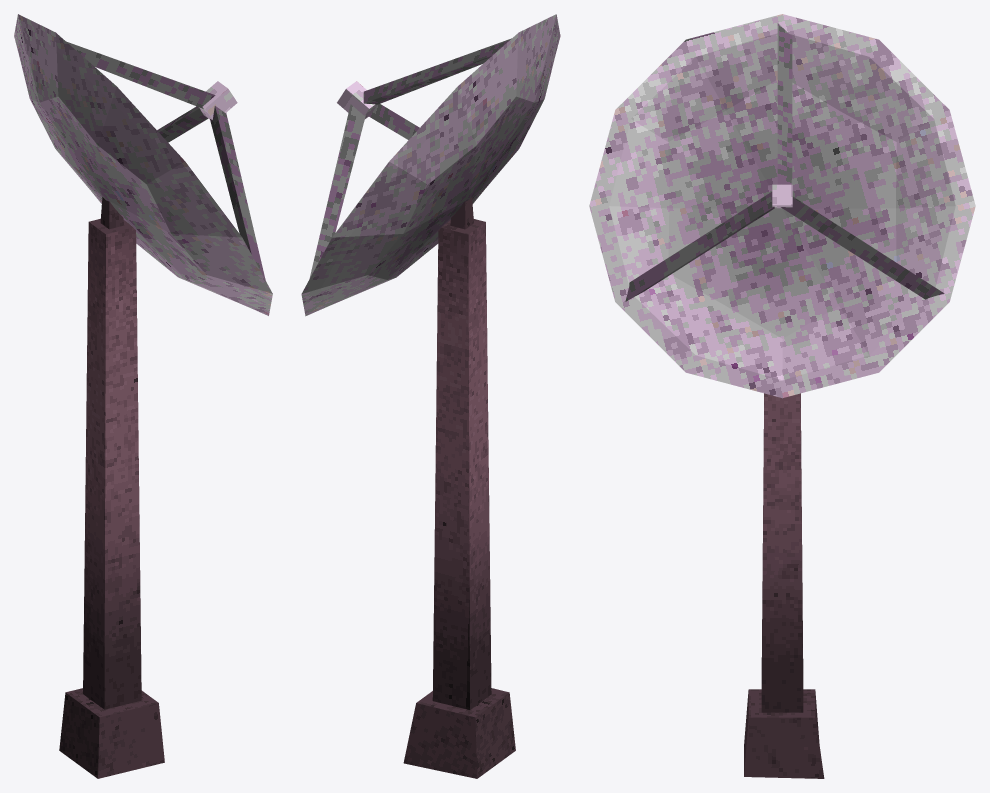
File: plate.glb
The picture shows the model from 3 angles, left to right: view 1: azimuth 30°, elevation 25°; view 2: azimuth 150°, elevation 25°; view 3: azimuth 270°, elevation 25°; orthographic projection. The views are drawn at different scales.
Parts seen in each view (by area): view 1: Cube, Cube.001; view 2: Cube, Cube.001; view 3: Cube.001, Cube.
Part boxes in pixels (<box>): Cube: <box>59,197,164,778</box>; Cube.001: <box>14,14,272,315</box>; Cube: <box>403,197,515,778</box>; Cube.001: <box>301,14,560,316</box>; Cube.001: <box>589,14,975,398</box>; Cube: <box>744,393,824,778</box>.
Size of the model in its own units: 2.94 by 11.73 by 5.71.
2 materials, 2 textured.
